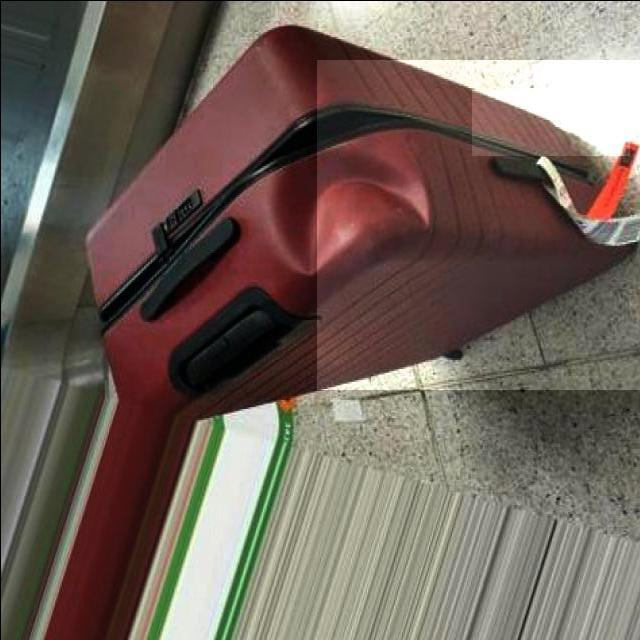Damage-bag: (211, 106, 431, 276)
